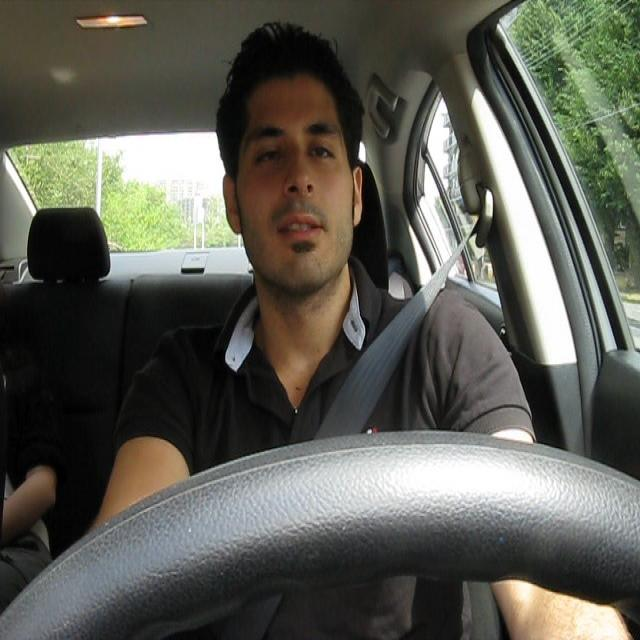Eyeclosed: (258, 142, 278, 172)
Eyeopen: (308, 136, 336, 171)
